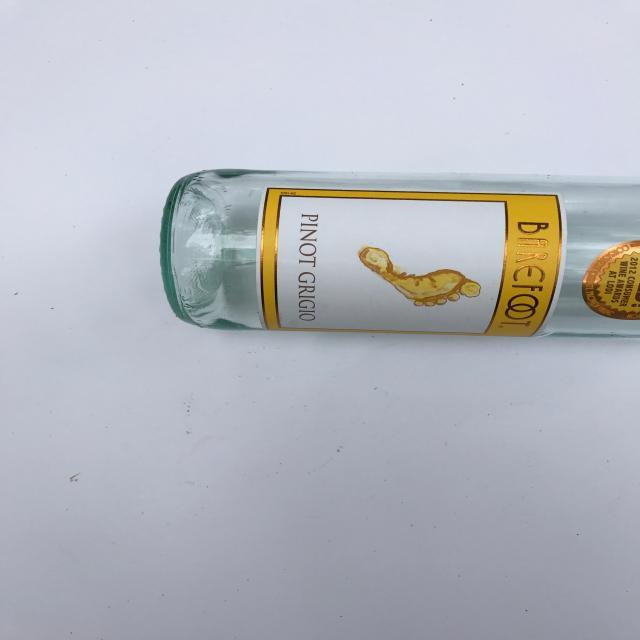glass: (159, 166, 640, 339)
